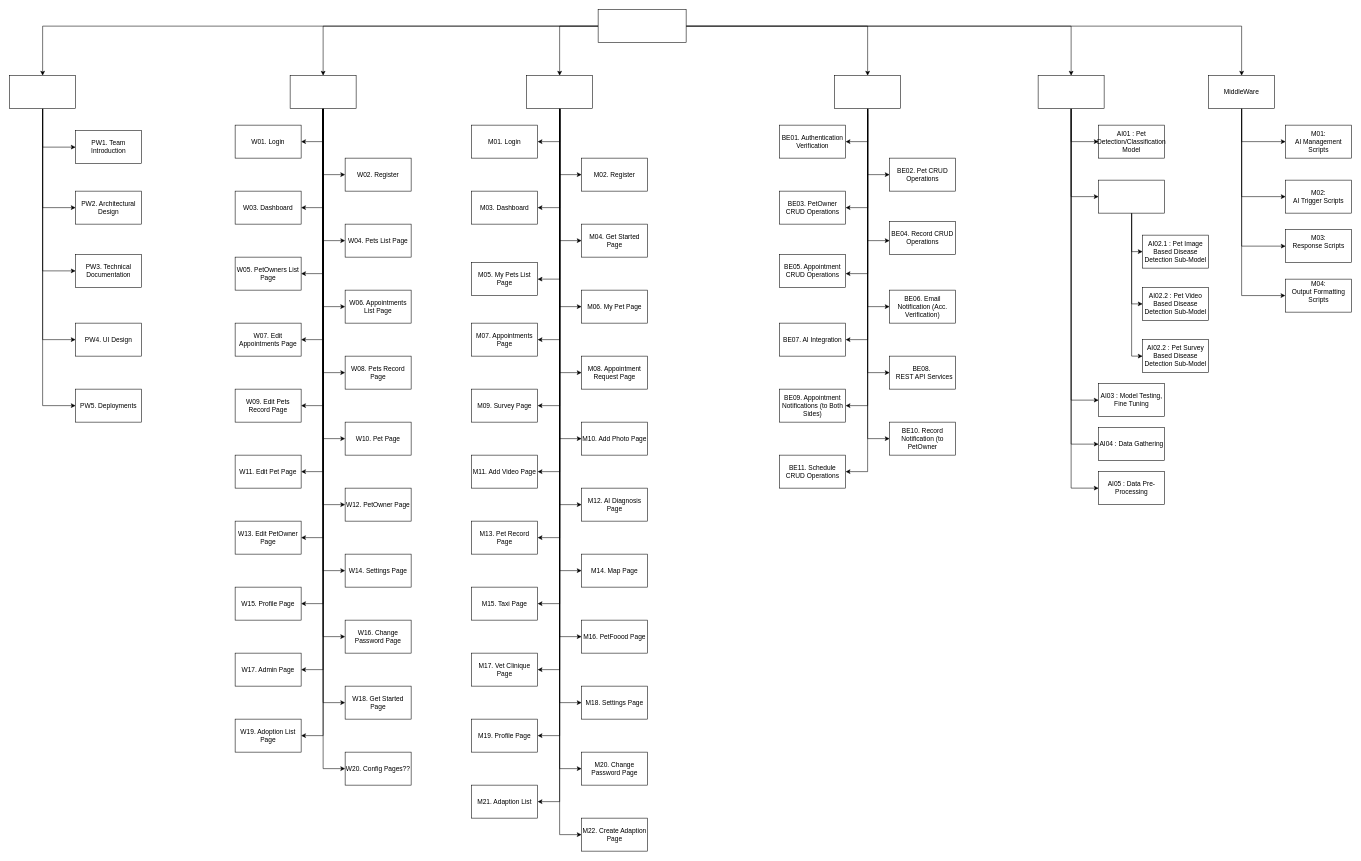
The diagram is 1361 pixels wide and 861 high, and some of its shapes have lost their labels. Each missing label, with the box of its shape:
AI: (1038, 75, 1104, 109)
AI02 : Pet Disease Detection Model: (1098, 180, 1165, 213)
Back-end: (834, 75, 901, 109)
Mobile: (526, 75, 593, 109)
Pet Care SaaS Platform: (598, 9, 686, 43)
Preliminary Work: (9, 75, 76, 109)
Web: (290, 75, 356, 109)
